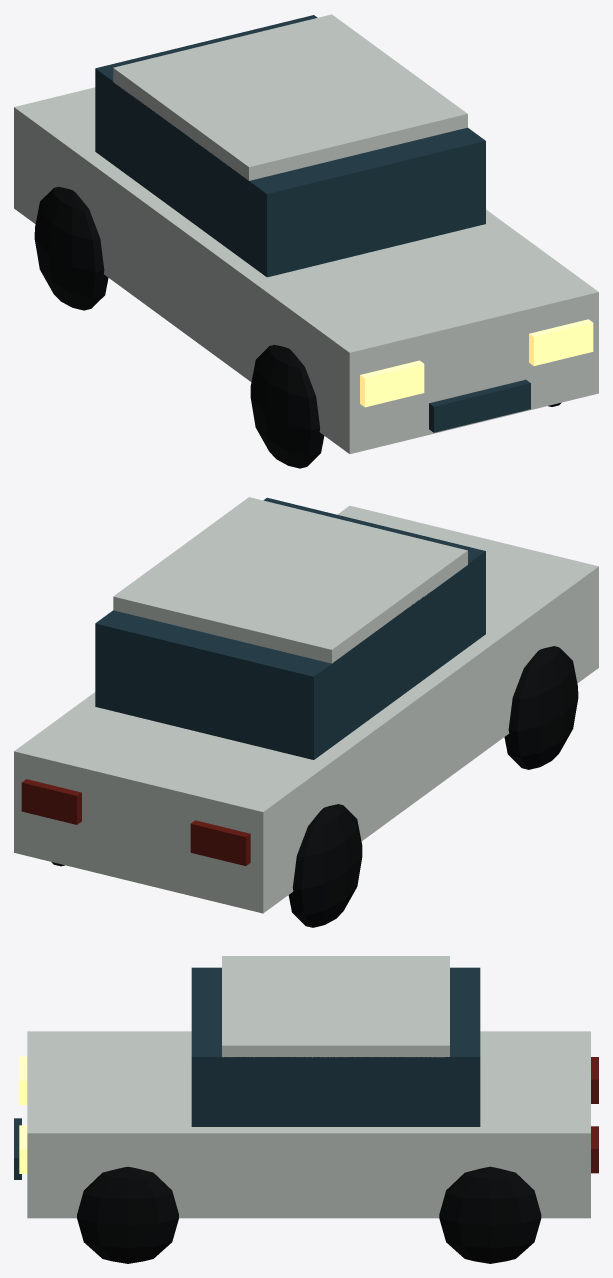
File: vehicle.glb
3 views of the same model, one above another, from view 1: azimuth 30°, elevation 25°; view 2: azimuth 150°, elevation 25°; view 3: azimuth 270°, elevation 25° (orthographic). The views are drawn at different scales.
Visible parts, largest first — view 1: Vehicle; view 2: Vehicle; view 3: Vehicle.
Boxes of the visible parts, <box> form: Vehicle: <box>14,14,598,468</box>; Vehicle: <box>14,497,598,927</box>; Vehicle: <box>14,956,598,1263</box>.
Size of the model in its own units: 2.16 by 1.74 by 4.36.
